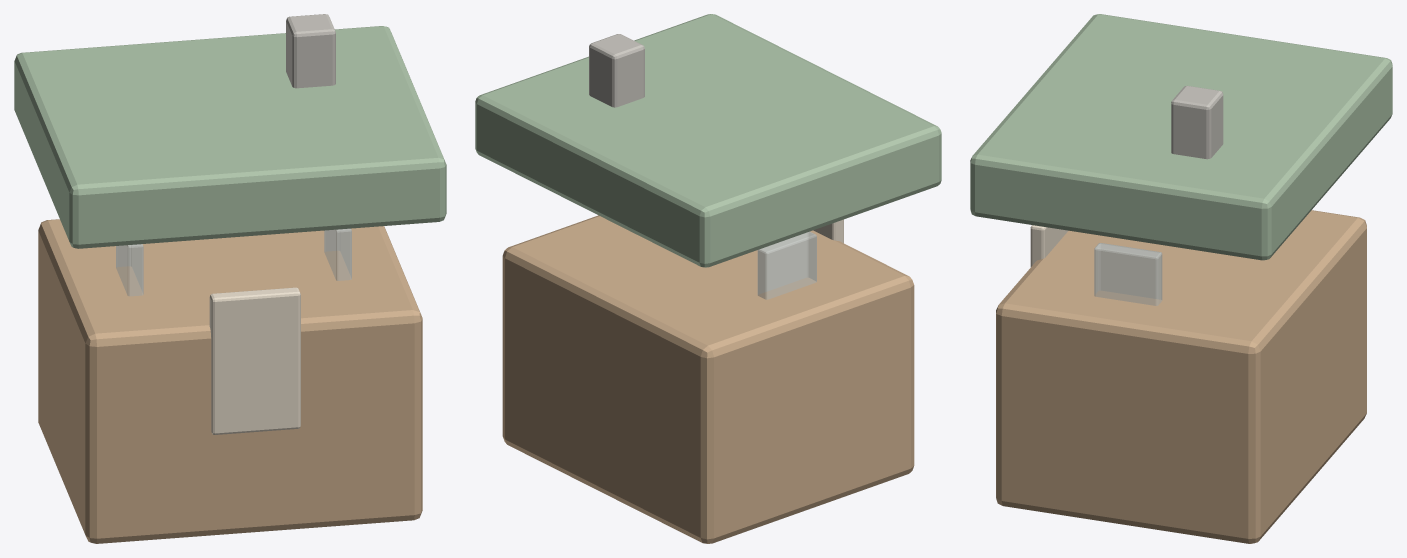
The model's file is house_01.glb.
3 renders of one model, left to right at view 1: azimuth 30°, elevation 25°; view 2: azimuth 150°, elevation 25°; view 3: azimuth 270°, elevation 25°, orthographic. The views are drawn at different scales.
Visible parts, largest first — view 1: ENV_house_01, ENV_house_01_Roof, ENV_house_01_Door, ENV_house_01_Chimney, ENV_house_01_WinL, ENV_house_01_WinR; view 2: ENV_house_01, ENV_house_01_Roof, ENV_house_01_Chimney, ENV_house_01_WinL; view 3: ENV_house_01, ENV_house_01_Roof, ENV_house_01_WinR, ENV_house_01_Chimney, ENV_house_01_Door.
Part boxes in pixels (x1,y1,x2,y2): ENV_house_01: [38, 219, 422, 543]; ENV_house_01_Roof: [14, 26, 446, 248]; ENV_house_01_Door: [209, 287, 300, 434]; ENV_house_01_Chimney: [286, 14, 335, 88]; ENV_house_01_WinL: [116, 244, 143, 296]; ENV_house_01_WinR: [324, 228, 351, 280]; ENV_house_01: [502, 215, 914, 543]; ENV_house_01_Roof: [475, 14, 941, 267]; ENV_house_01_Chimney: [589, 34, 644, 107]; ENV_house_01_WinL: [757, 231, 816, 299]; ENV_house_01: [996, 210, 1366, 543]; ENV_house_01_Roof: [970, 14, 1392, 260]; ENV_house_01_WinR: [1094, 243, 1162, 305]; ENV_house_01_Chimney: [1171, 85, 1223, 159]; ENV_house_01_Door: [1030, 225, 1068, 266].
Size of the model in its own units: 4.64 by 4.65 by 4.35.
